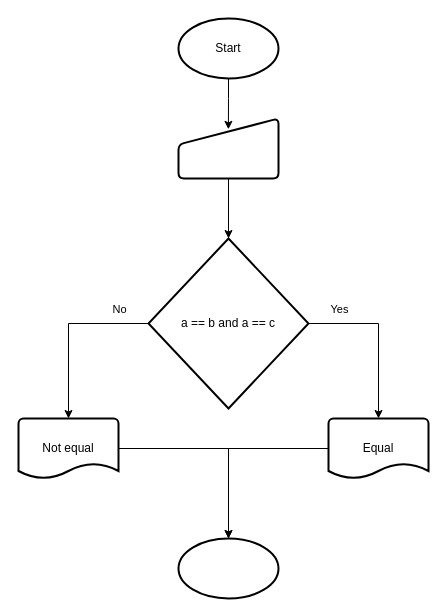
The diagram is 446 pixels wide and 616 high, and some of its shapes have lost their labels. Here are the shapes that lost their labels. From the top down, the centre of each, then its label:
(228,148): a,b,c
(228,568): Stop
